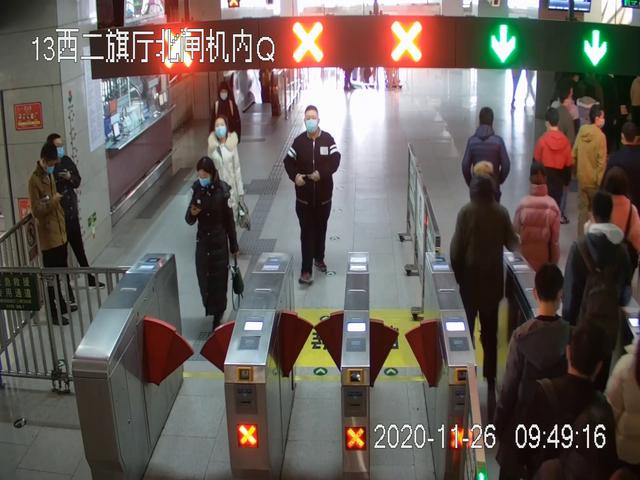person: (502, 265, 597, 480), (450, 162, 522, 416), (565, 194, 640, 368), (282, 105, 341, 285), (187, 158, 245, 337), (30, 145, 82, 326), (43, 134, 97, 284), (461, 107, 510, 261), (514, 166, 563, 320), (208, 115, 251, 258), (531, 109, 572, 254), (571, 104, 608, 244)
